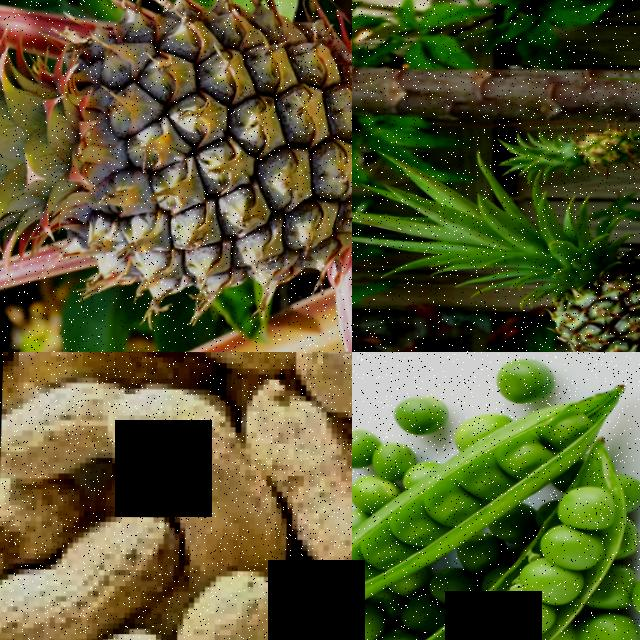peanuts: (142, 578, 288, 640)
peas: (388, 491, 623, 640), (352, 417, 404, 547), (352, 597, 426, 640)
pineapple: (0, 0, 352, 305), (501, 245, 640, 352), (539, 122, 640, 171)
